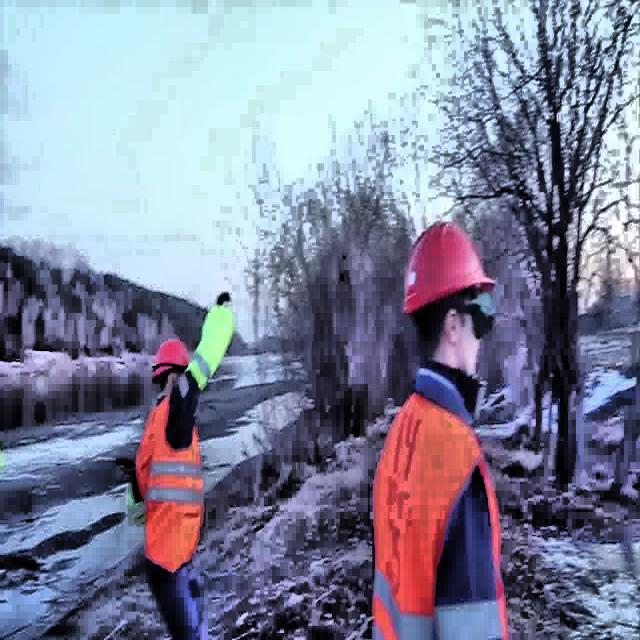safety_helmet: (401, 220, 498, 318), (152, 337, 192, 382)
safety_jacket: (377, 384, 509, 636), (135, 410, 207, 572), (188, 300, 234, 398)
